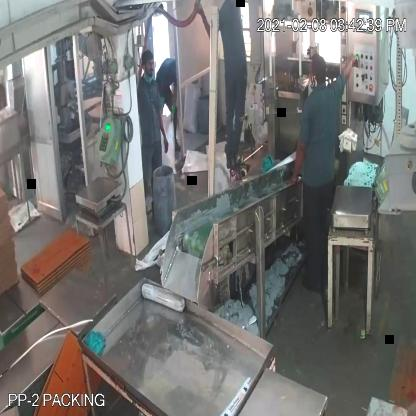no_glove: (280, 129, 309, 193), (336, 49, 361, 90)
